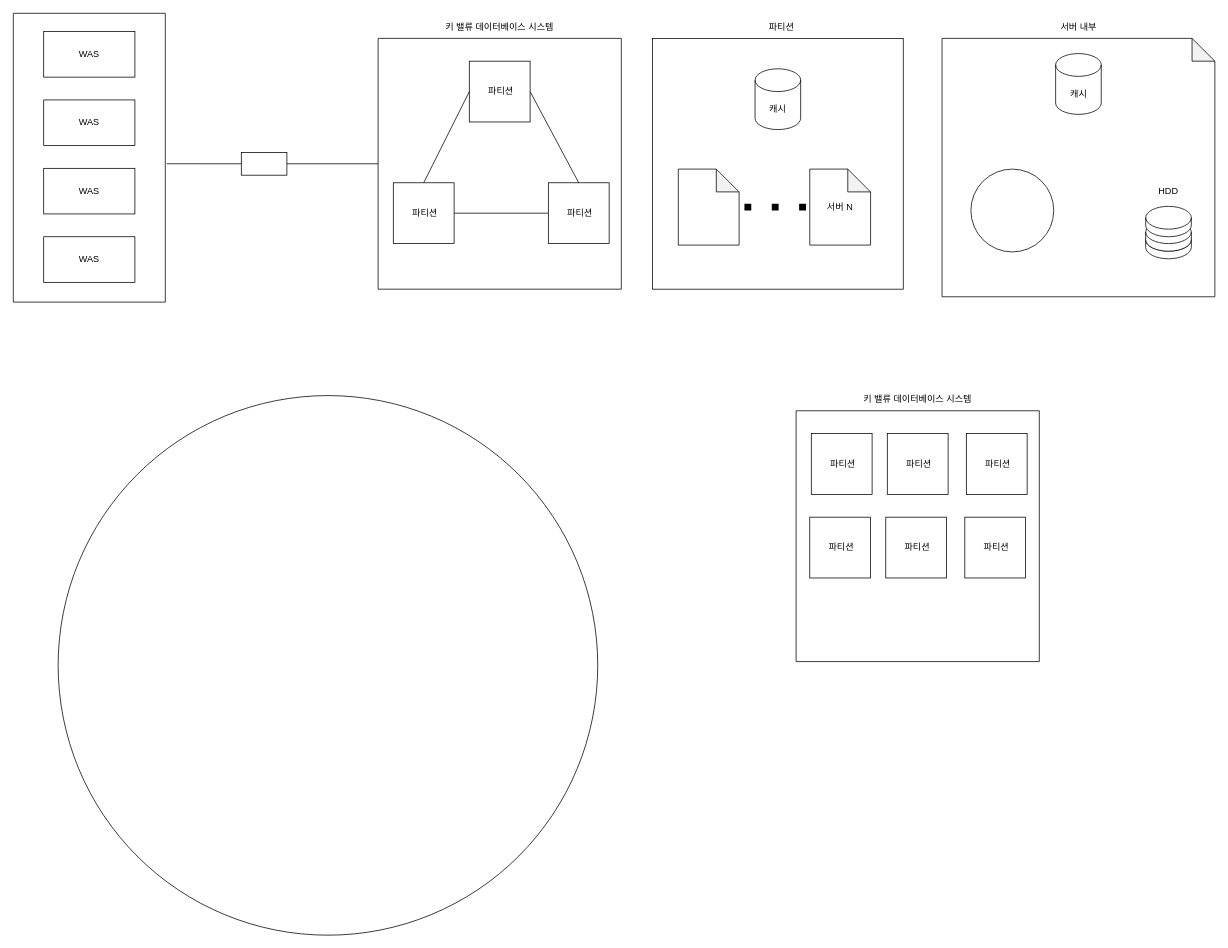
Some shapes in this 1228 by 948 pixel diagram are drawn without their labels. Here are the shapes that lost their labels. From the top down, the centre of each, then its label:
[264,163]: LB
[708,206]: 서버 1
[1012,210]: 서버 저장소 관리
